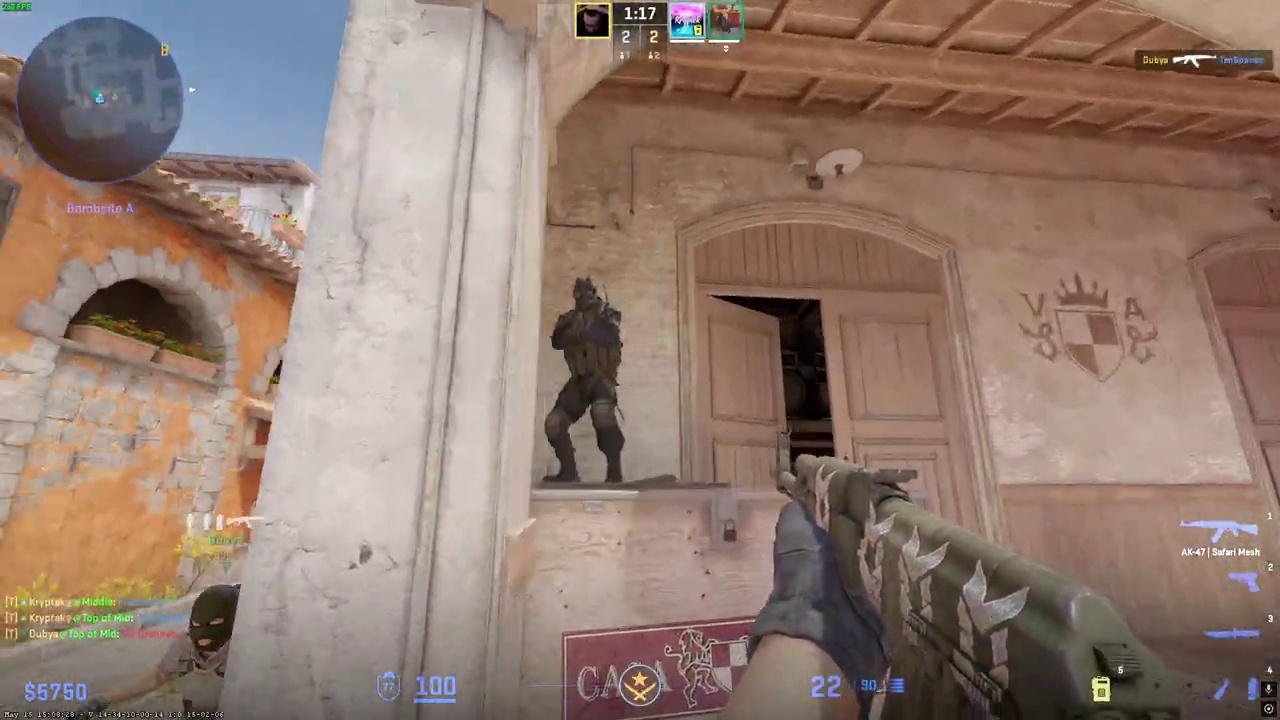CT: (542, 276, 625, 483)
Terrorist: (148, 581, 241, 720)
